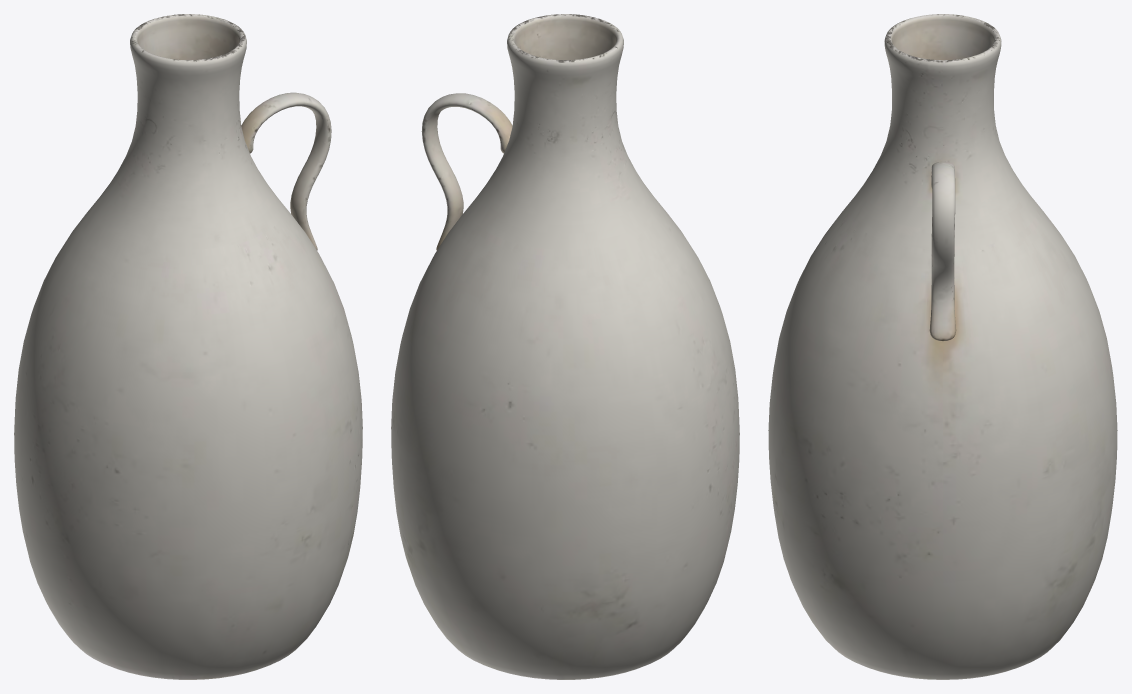
Rendered from ceramic_vase_04_2k.glb.
3 renders of one model, left to right at view 1: azimuth 30°, elevation 25°; view 2: azimuth 150°, elevation 25°; view 3: azimuth 270°, elevation 25°, orthographic.
Parts seen in each view (by area): view 1: ceramic_vase_04; view 2: ceramic_vase_04; view 3: ceramic_vase_04.
Part boxes in pixels (x1,y1,x2,y2): ceramic_vase_04: (14,14,362,679); ceramic_vase_04: (391,14,739,679); ceramic_vase_04: (768,14,1117,679).
Size of the model in its own units: 0.1811 by 0.3419 by 0.1811.
1 material, 1 textured.
